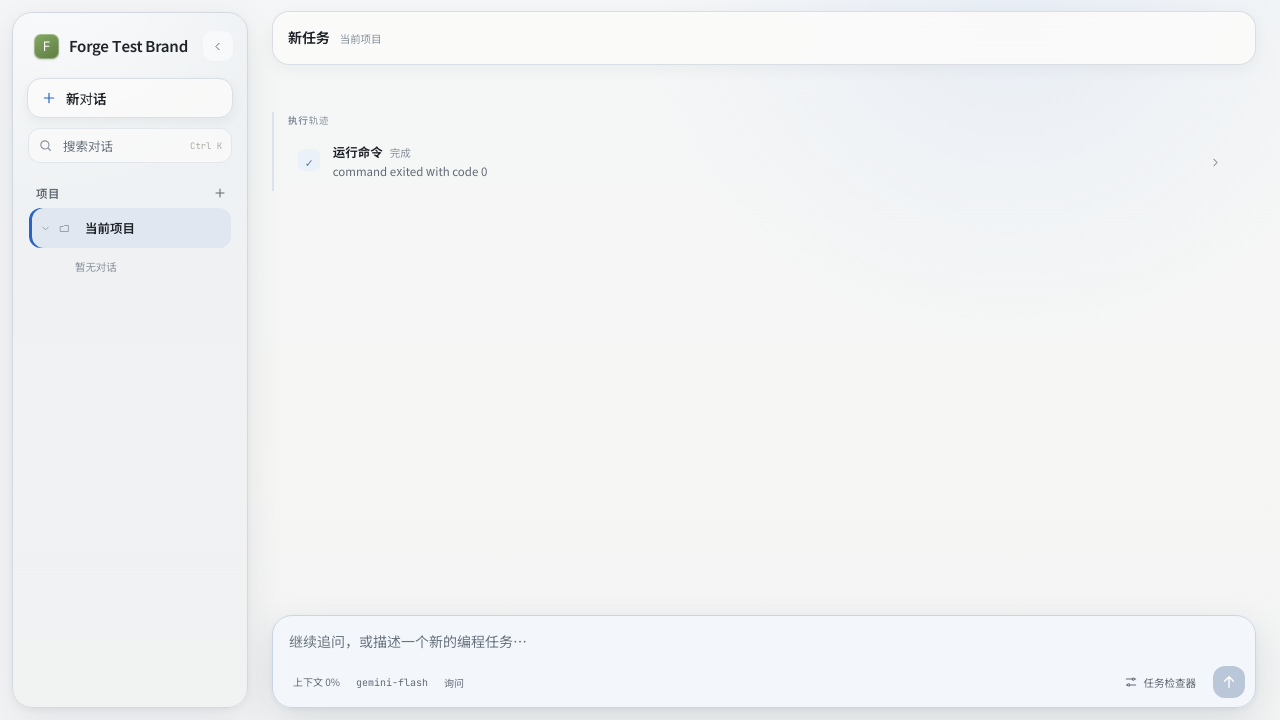
Test: opens inspector command records in the conversation-side detail pane
Click the button "任务检查器" at (1160, 682), box top-left (1114, 667), bottom-right (1206, 697)
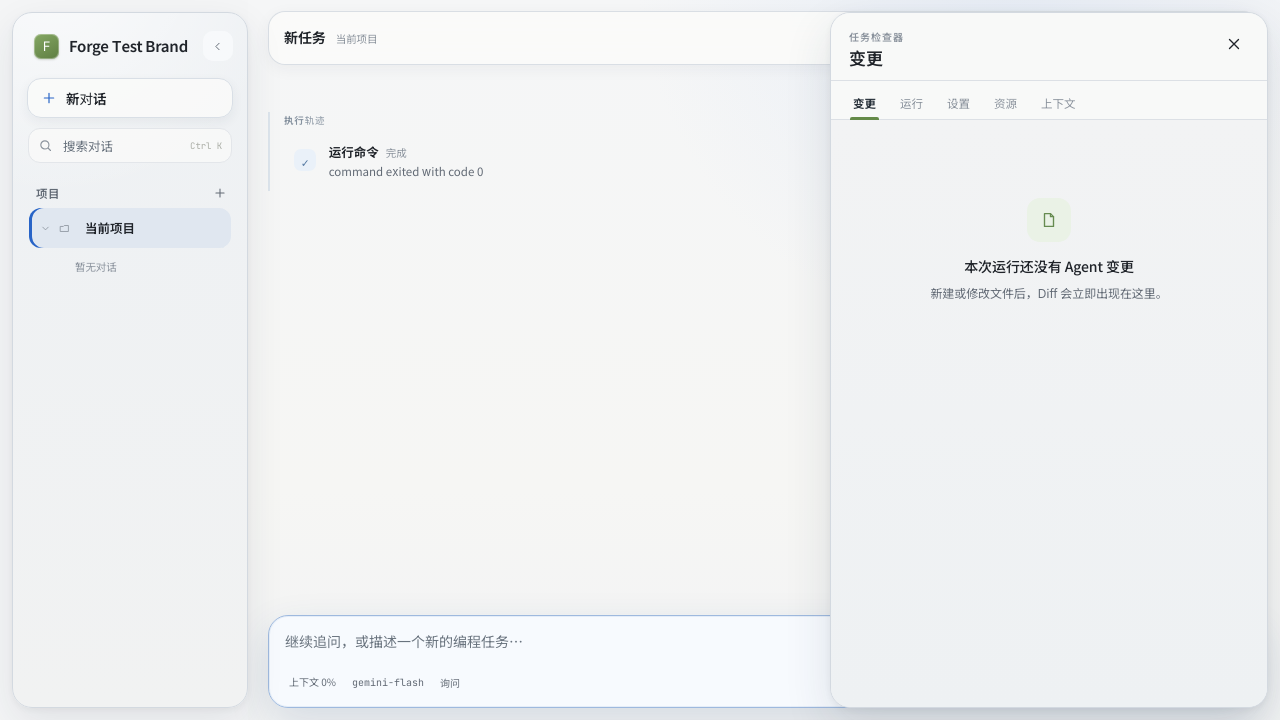
Click the tab "运行" at (912, 102), box top-left (890, 86), bottom-right (933, 119)
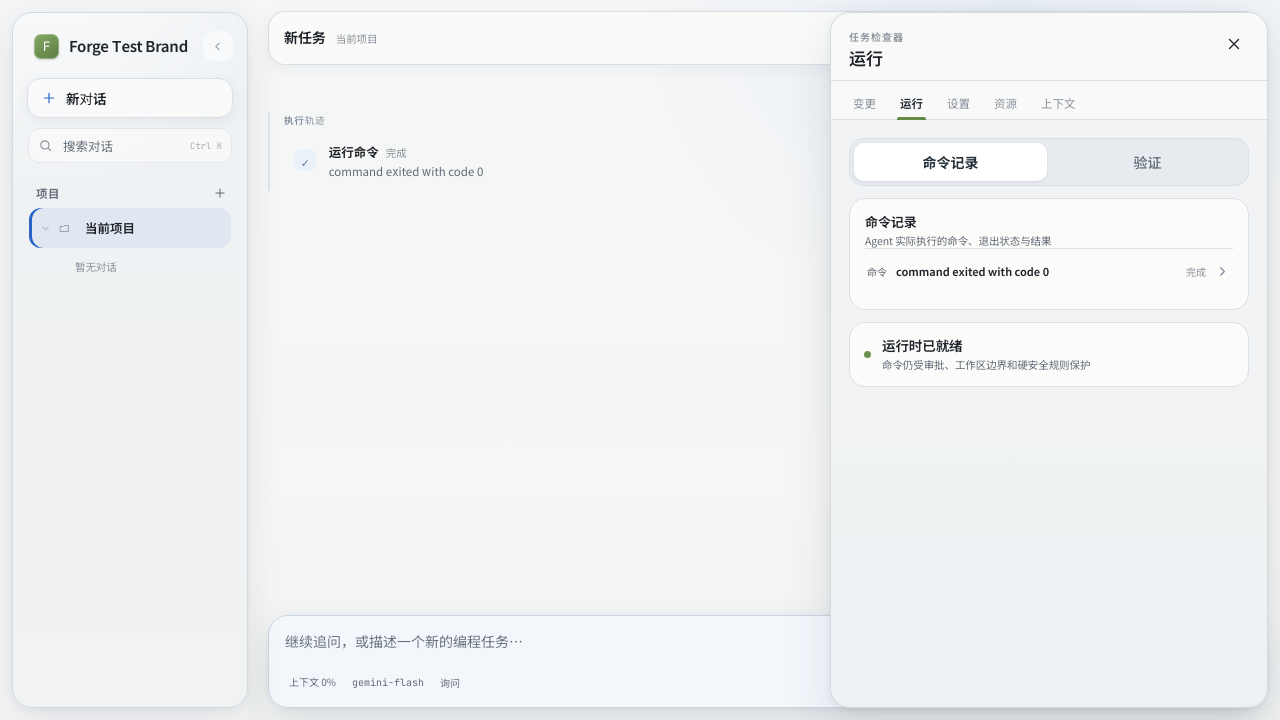
Check: the text "python -m pytest -q" is not shown
Click the button with aria-label "查看命令详情" at (1049, 271), box top-left (865, 248), bottom-right (1233, 294)
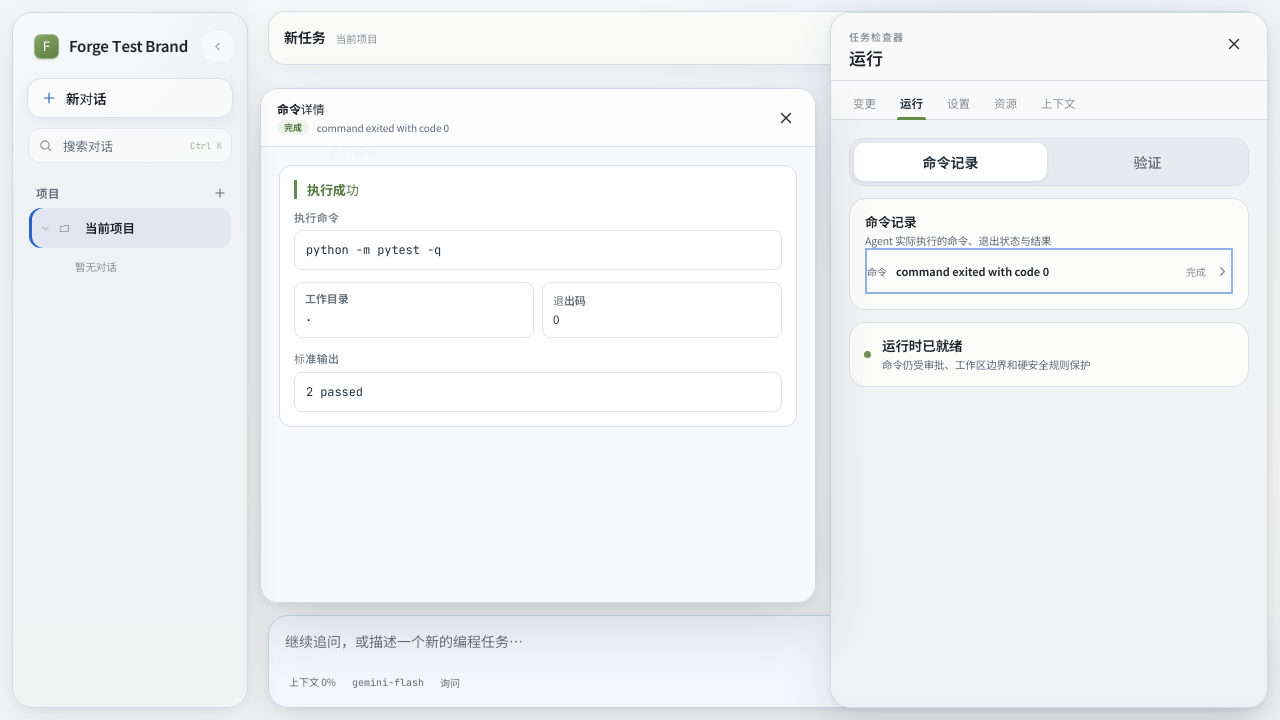
Check: the dialog named "命令执行详情" is shown, box top-left (260, 88), bottom-right (816, 603)
Check: the text "python -m pytest -q" is shown, box top-left (306, 242), bottom-right (441, 258)
Click the button named "关闭执行详情" at (786, 118), box top-left (769, 100), bottom-right (803, 134)
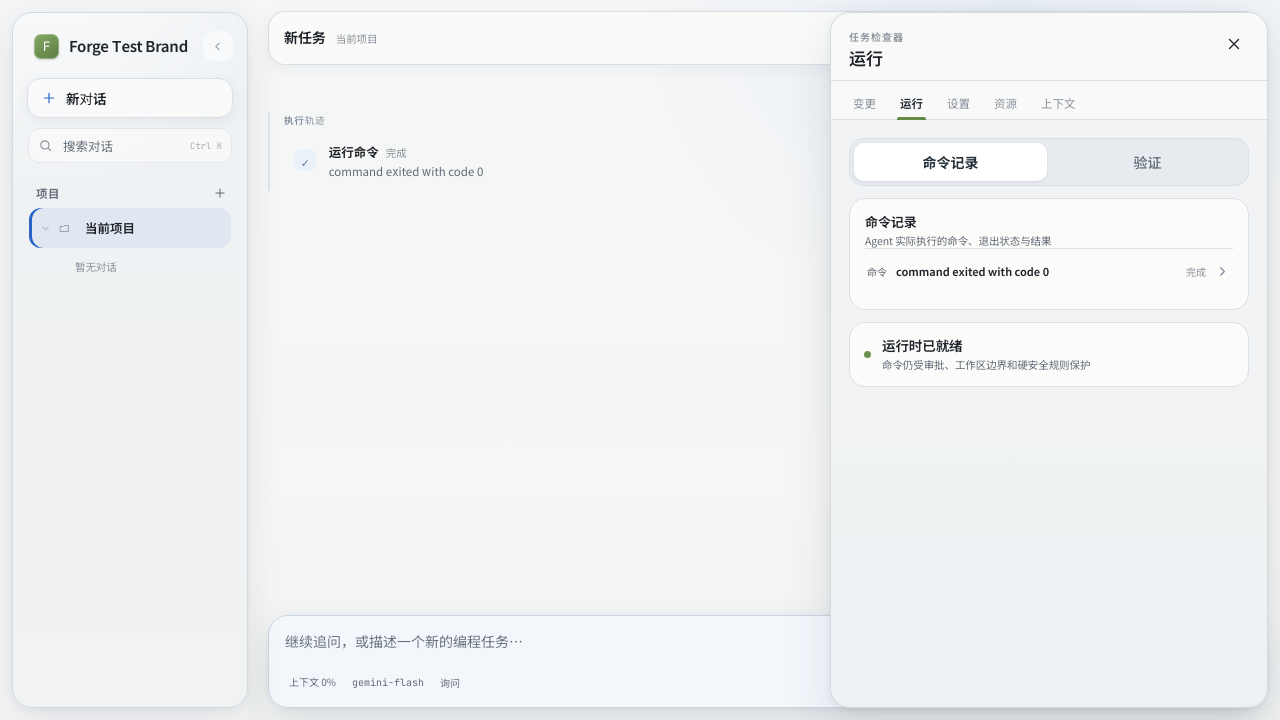
Check: the dialog "命令执行详情" is gone
